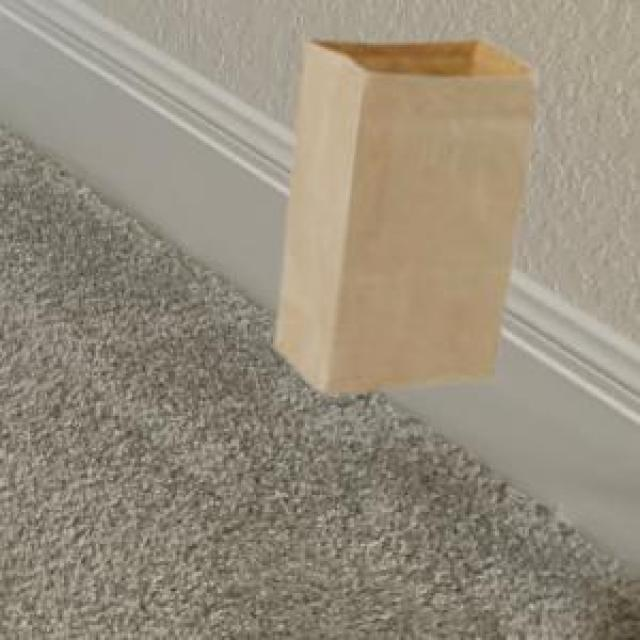paper: (271, 34, 533, 390)
